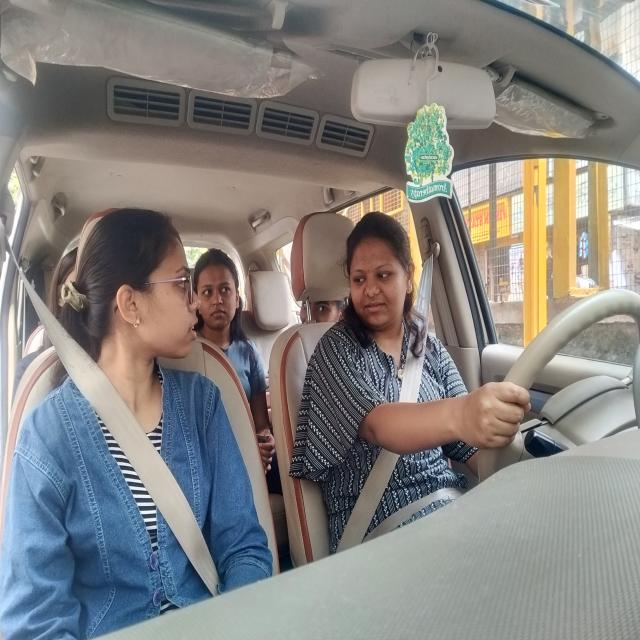LeftRight: (341, 200, 436, 370)
person: (68, 190, 207, 385), (196, 235, 246, 351)
